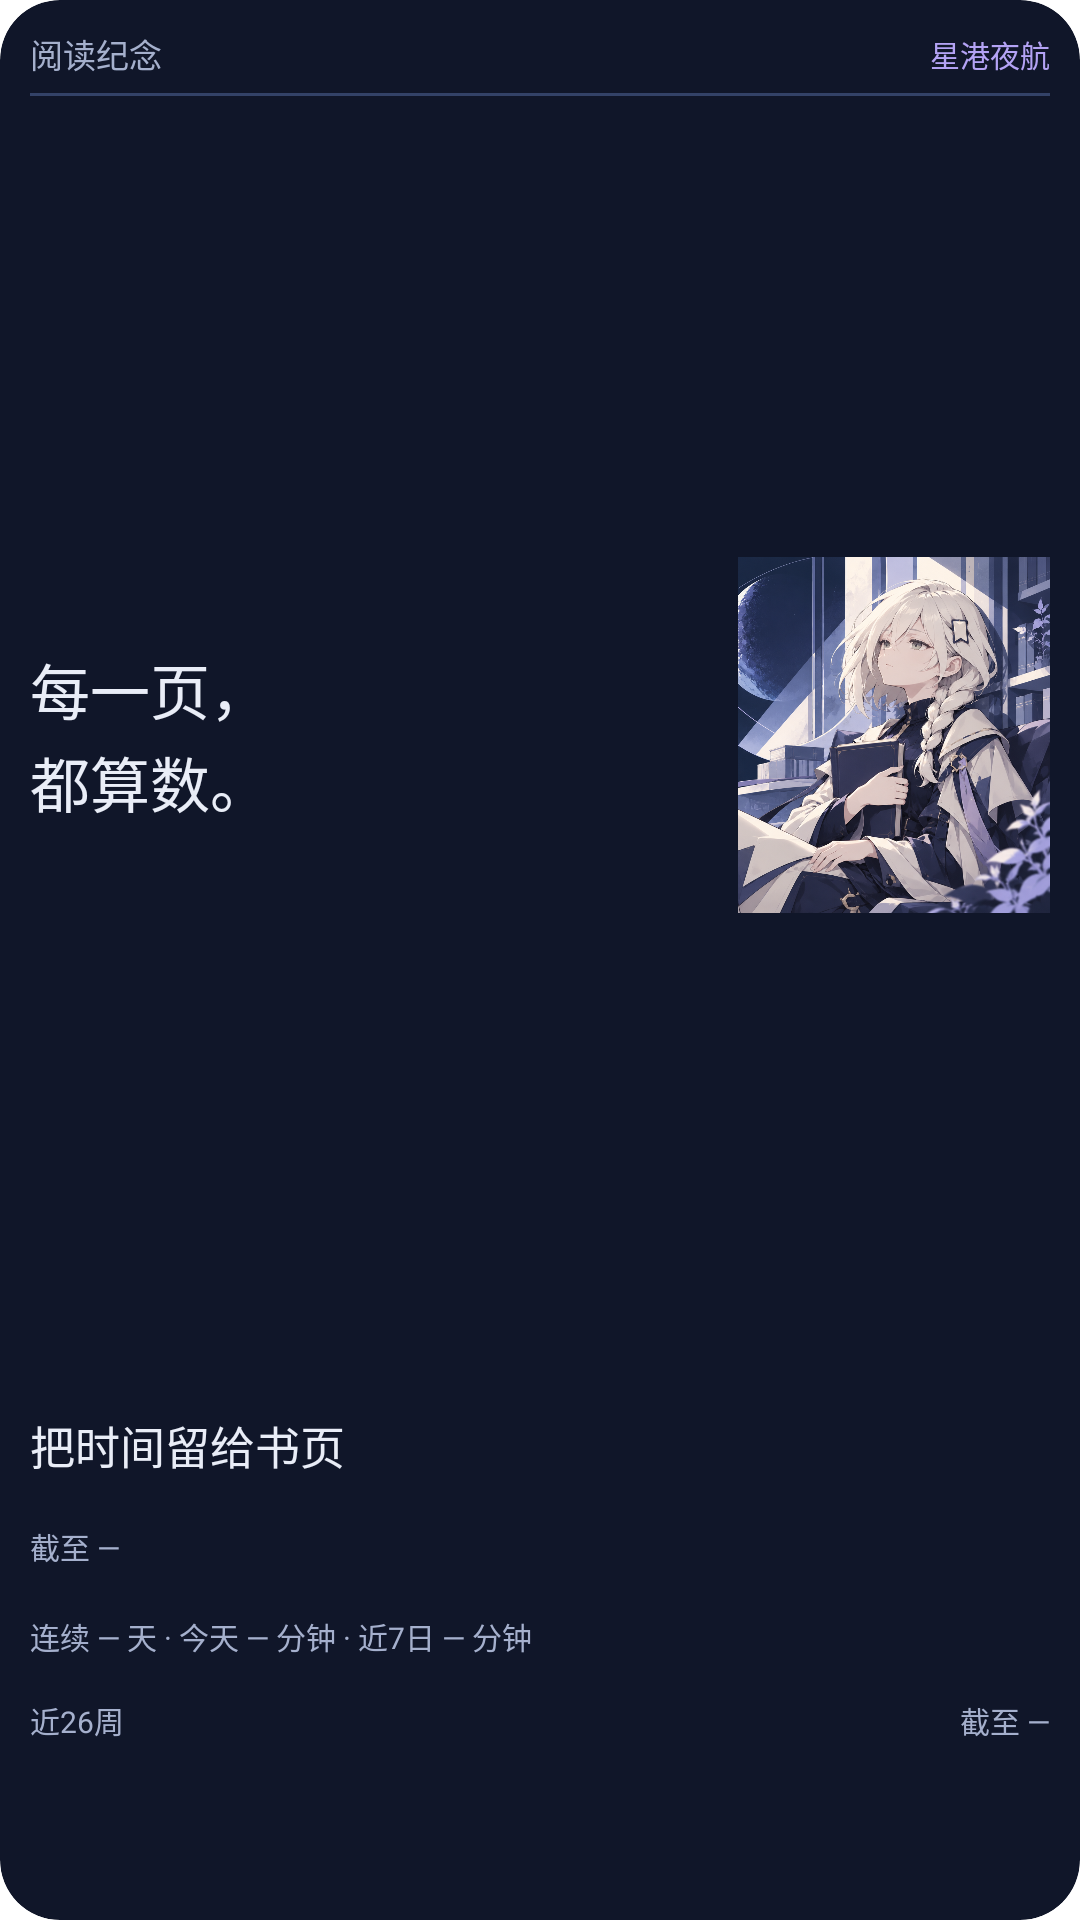

Where icons sit on this 1080x1920 app screen, as (x1, y1, x2, y2):
reading widget art constellation: (738, 557, 1050, 913)
